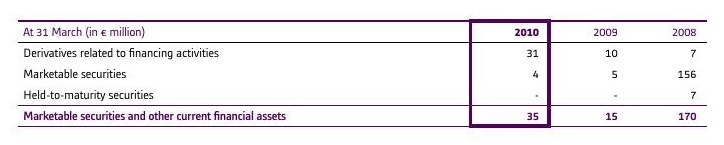table: (0, 0, 724, 145)
